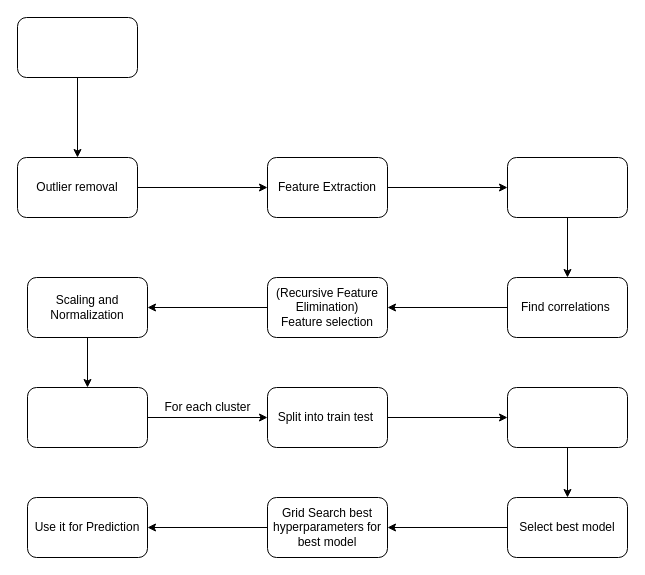
Some shapes in this 645 by 575 pixel diagram are drawn without their labels. The shapes that lost their labels are listed below. From the top down, each one's centre as x and y in pixels, then its label:
At (77,47): "Signal".
At (567,187): "Dataset".
At (87,417): "(KNN) Create clusters".
At (567,417): "Train over multiple models".
